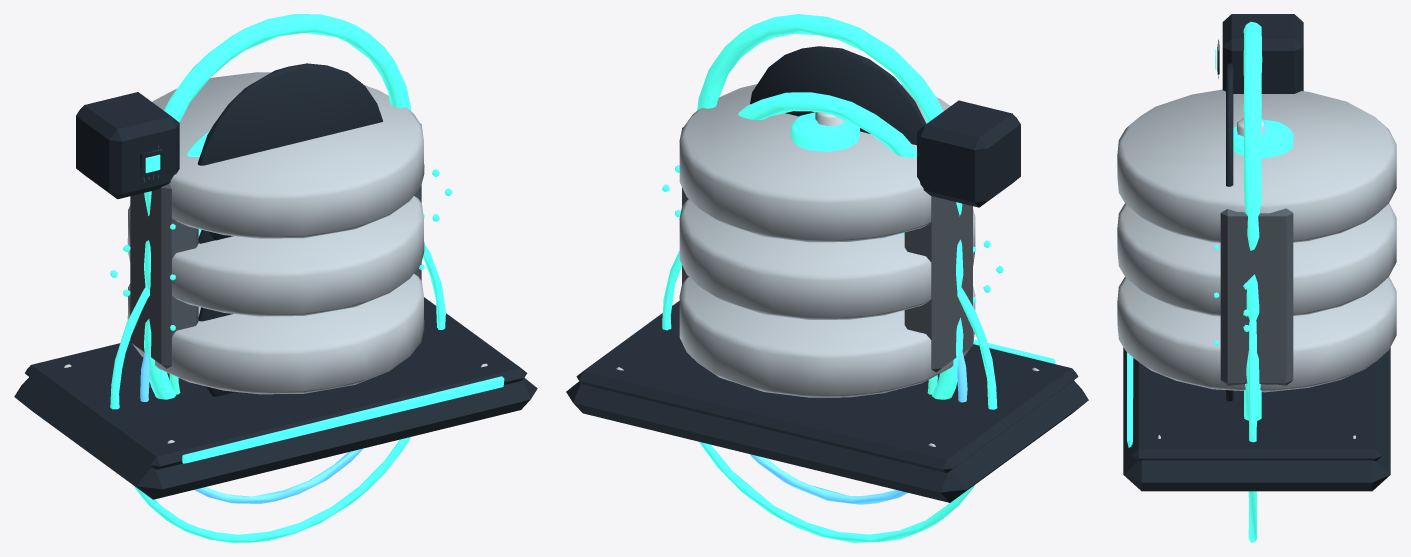
Rendered from Artifact_Source.glb.
3 renders of one model, left to right at view 1: azimuth 30°, elevation 25°; view 2: azimuth 150°, elevation 25°; view 3: azimuth 270°, elevation 25°, orthographic. The views are drawn at different scales.
Parts seen in each view (by area): view 1: Artifact_Source_Body; view 2: Artifact_Source_Body; view 3: Artifact_Source_Body.
Boxes of the visible parts, left/top/right/bottom form: Artifact_Source_Body: left=14, top=14, right=537, bottom=542; Artifact_Source_Body: left=566, top=14, right=1088, bottom=542; Artifact_Source_Body: left=1117, top=14, right=1396, bottom=542.
Bounding box in the file's own units: 2.16 × 2.67 × 1.38.
